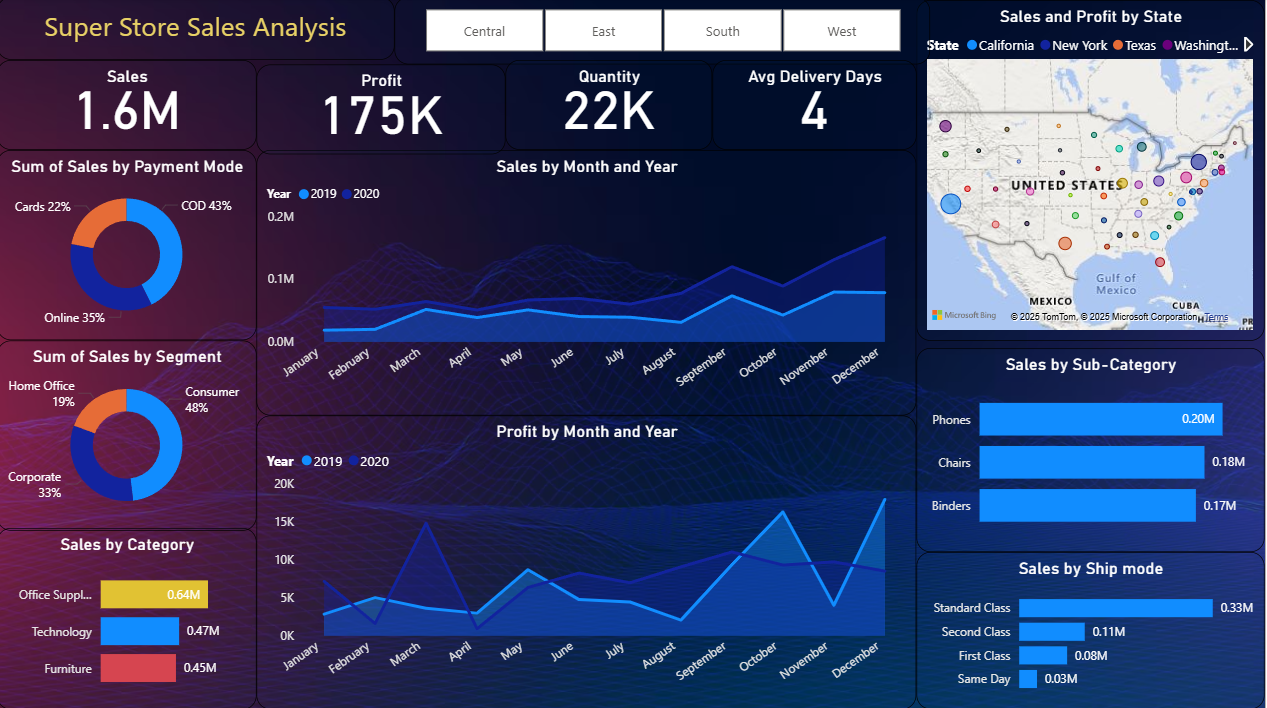

Layout of this report page (visuals, bound fields, positions):
{"tool":"powerbi","page":{"name":"Sales_analysis","canvas":[1280,720],"ordinal":0},"visuals":[{"type":"clusteredBarChart","title":"Sales by Category","fields":{"Y":["Sum(SuperStore_Sales_Dataset.Sales)"],"Category":["SuperStore_Sales_Dataset.Category"]},"box":[0,536,262,183.2],"z":0},{"type":"clusteredBarChart","title":"Sales by Sub-Category","fields":{"Y":["Sum(SuperStore_Sales_Dataset.Sales)"],"Category":["SuperStore_Sales_Dataset.Sub-Category"]},"box":[928.2,354.3,351.3,205.9],"z":1000},{"type":"clusteredBarChart","title":"Sales by Ship mode","fields":{"Y":["Sum(SuperStore_Sales_Dataset.Sales)"],"Category":["SuperStore_Sales_Dataset.Ship Mode"]},"box":[928.2,560.3,351.3,159],"z":2000},{"type":"areaChart","title":"Sales by Month and Year","fields":{"Y":["Sum(SuperStore_Sales_Dataset.Sales)"],"Category":["SuperStore_Sales_Dataset.Order Date.Variation.Date Hierarchy.Month","SuperStore_Sales_Dataset.Order Date.Variation.Date Hierarchy.Day"],"Series":["SuperStore_Sales_Dataset.Order Date.Variation.Date Hierarchy.Year"]},"box":[262,154.4,666.3,268],"z":3000},{"type":"areaChart","title":"Profit by Month and Year","fields":{"Category":["SuperStore_Sales_Dataset.Order Date.Variation.Date Hierarchy.Month","SuperStore_Sales_Dataset.Order Date.Variation.Date Hierarchy.Day"],"Series":["SuperStore_Sales_Dataset.Order Date.Variation.Date Hierarchy.Year"],"Y":["Sum(SuperStore_Sales_Dataset.Profit)"]},"box":[262,422.5,666.3,296.8],"z":4000},{"type":"map","title":"Sales and Profit by State","fields":{"Category":["SuperStore_Sales_Dataset.State"],"Series":["SuperStore_Sales_Dataset.State"],"Size":["Sum(SuperStore_Sales_Dataset.Sales)"]},"box":[928.2,3,351.3,343.7],"z":5000},{"type":"donutChart","fields":{"Category":["SuperStore_Sales_Dataset.Segment"],"Y":["Sum(SuperStore_Sales_Dataset.Sales)"]},"box":[0,346.8,262,192.3],"z":6000},{"type":"donutChart","fields":{"Category":["SuperStore_Sales_Dataset.Payment Mode"],"Y":["Sum(SuperStore_Sales_Dataset.Sales)"]},"box":[0,154.4,262,192.3],"z":7000},{"type":"slicer","fields":{"Values":["SuperStore_Sales_Dataset.Region"]},"box":[401.3,0,540.6,68.1],"z":8000},{"type":"textbox","box":[0,0,401.3,63.6],"z":9000},{"type":"card","title":"Sales","fields":{"Values":["Sum(SuperStore_Sales_Dataset.Sales)"]},"box":[0,63.6,262,90.9],"z":10000},{"type":"card","title":"Profit","fields":{"Values":["Sum(SuperStore_Sales_Dataset.Profit)"]},"box":[262,68.1,251.4,90.9],"z":11000},{"type":"card","title":"Quantity","fields":{"Values":["Sum(SuperStore_Sales_Dataset.Quantity)"]},"box":[513.3,63.6,209,90.9],"z":12000},{"type":"card","title":"Avg Delivery Days","fields":{"Values":["Avg(SuperStore_Sales_Dataset.AvgDelivery)"]},"box":[722.3,63.6,205.9,90.9],"z":13000}]}

Visuals, with their boxes in screenshot pixels (x1, y1, x2, y2), scaled from the page's 1280x720 canvas onto the 1267x708 screenshot:
"Sales by Category" clusteredBarChart: (0, 527, 259, 707)
"Sales by Sub-Category" clusteredBarChart: (919, 348, 1266, 551)
"Sales by Ship mode" clusteredBarChart: (919, 551, 1266, 707)
"Sales by Month and Year" areaChart: (259, 152, 919, 415)
"Profit by Month and Year" areaChart: (259, 415, 919, 707)
"Sales and Profit by State" map: (919, 3, 1266, 341)
donutChart - SuperStore_Sales_Dataset.Segment x Sum(SuperStore_Sales_Dataset.Sales): (0, 341, 259, 530)
donutChart - SuperStore_Sales_Dataset.Payment Mode x Sum(SuperStore_Sales_Dataset.Sales): (0, 152, 259, 341)
slicer - SuperStore_Sales_Dataset.Region: (397, 0, 932, 67)
textbox: (0, 0, 397, 63)
"Sales" card: (0, 63, 259, 152)
"Profit" card: (259, 67, 508, 156)
"Quantity" card: (508, 63, 715, 152)
"Avg Delivery Days" card: (715, 63, 919, 152)
